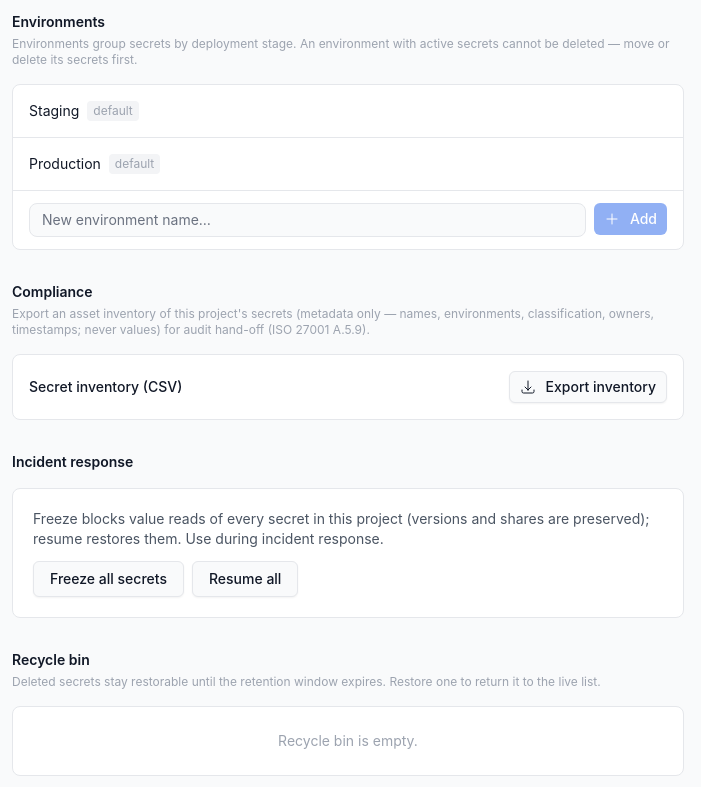
Test case: ProjectSettingsTab — promote environment › surfaces the server message when the inventory export fails
The width and height of the screenshot is (701, 787).
(page scrolled)
Click the button "Export inventory": (588, 387) [509,371,667,403]
(page scrolled)
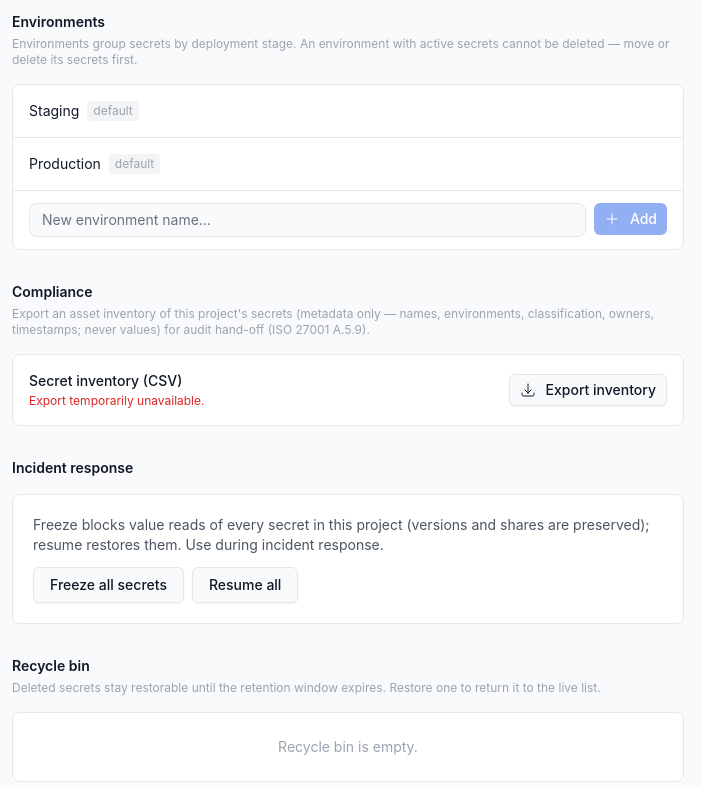
Now the text "Export temporarily unavailable." is shown, box [29,393,204,409]
